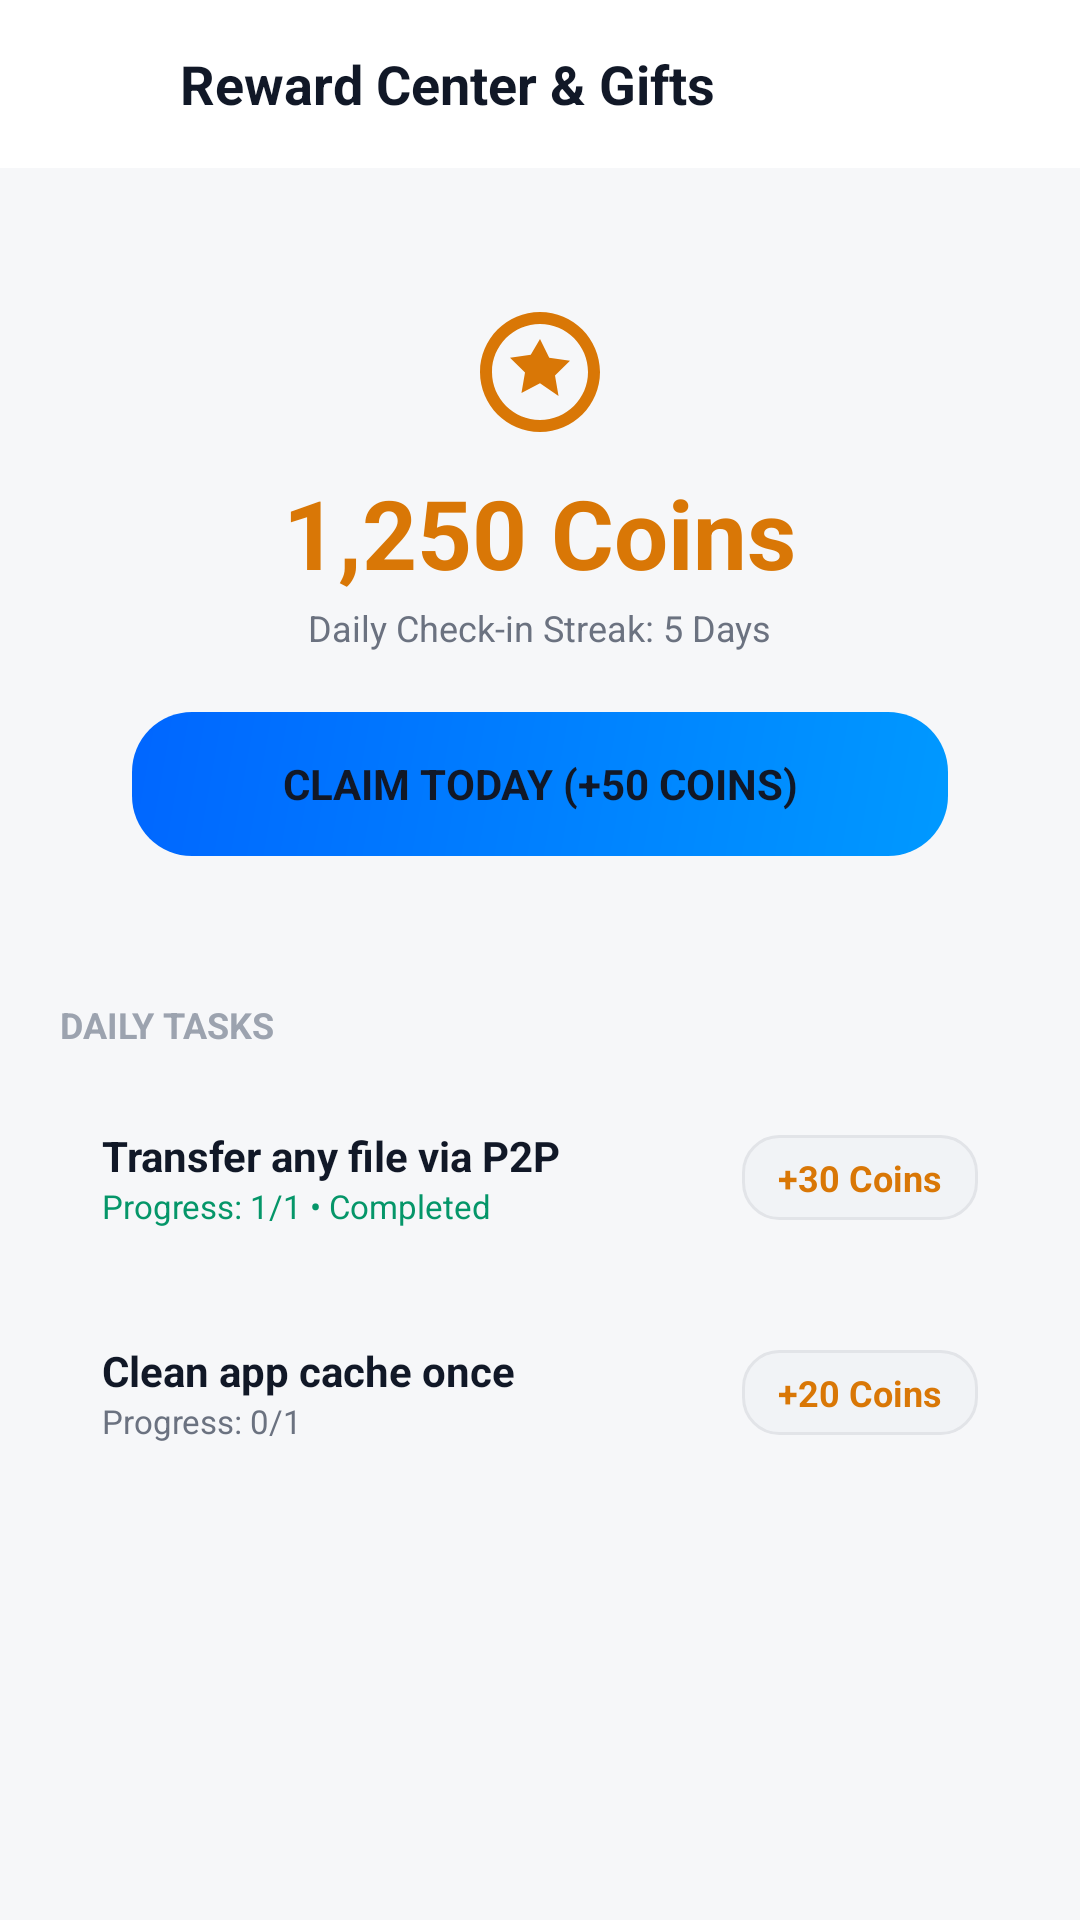

Screen size 1080×1920. Icon name, then its center in pixels as point (x, y):
coin star: point (540, 372)
